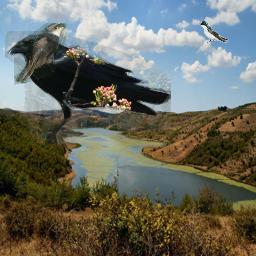Crow: (2, 31, 171, 144)
Cuckoo: (14, 23, 67, 85)
Swallow: (199, 20, 229, 43)
